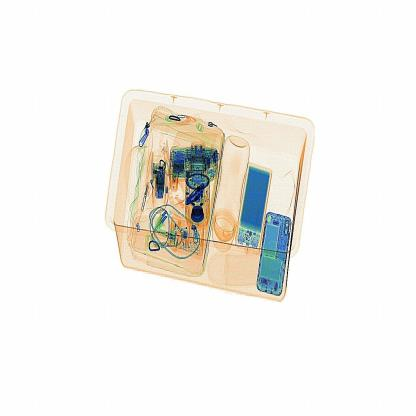knife: (183, 175, 209, 209)
